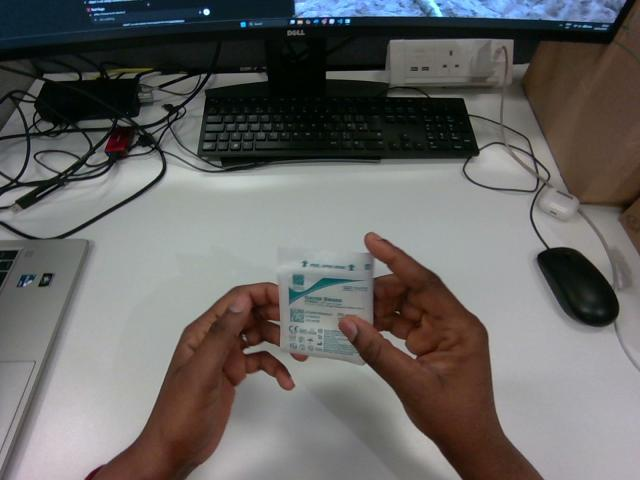gauze: (278, 248, 373, 364)
